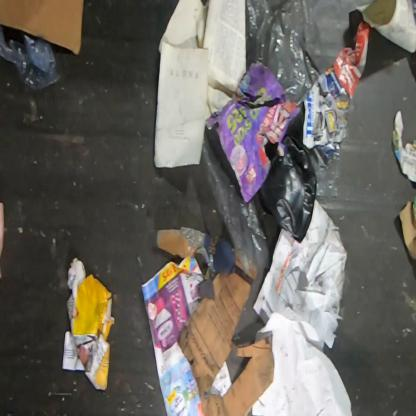cardboard: (176, 271, 276, 415), (62, 257, 116, 390), (0, 0, 83, 57), (157, 227, 236, 281), (396, 172, 416, 289)
rigid_plastic: (258, 139, 317, 242), (0, 25, 63, 92)
soft_plastic: (201, 128, 282, 282), (245, 0, 321, 121), (306, 148, 340, 198)
